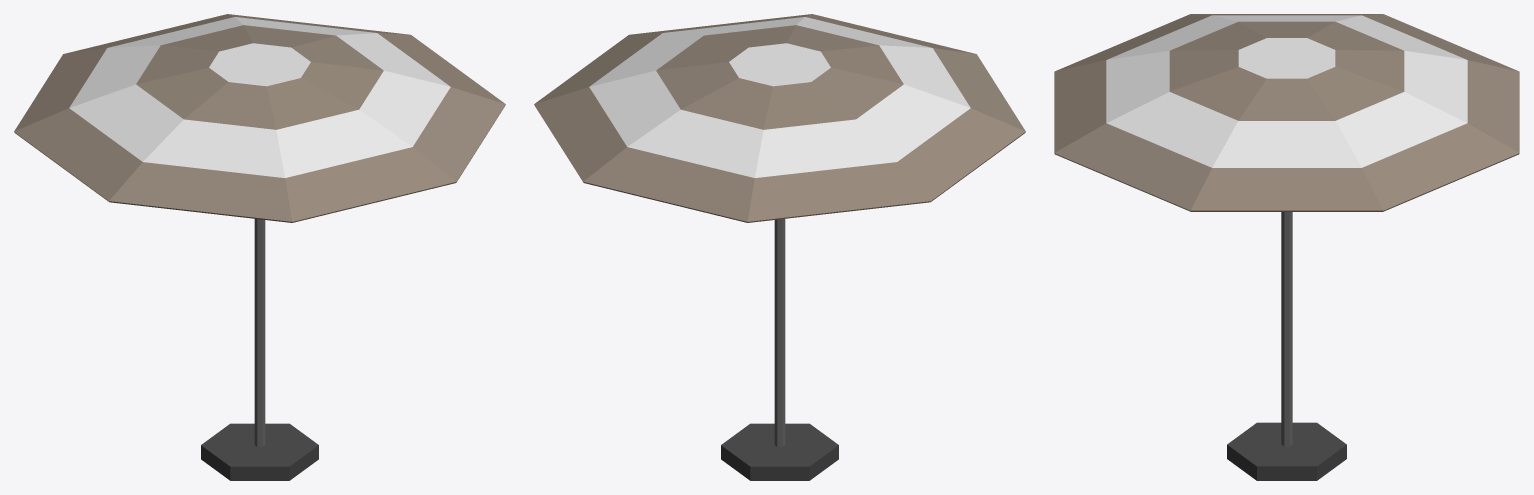
Rendered from Umbrella_04.fbx.
The picture shows the model from 3 angles, left to right: view 1: azimuth 30°, elevation 25°; view 2: azimuth 150°, elevation 25°; view 3: azimuth 270°, elevation 25°; orthographic projection.
Parts seen in each view (by area): view 1: Umbrella_04; view 2: Umbrella_04; view 3: Umbrella_04.
Boxes of the visible parts, x1=… form: Umbrella_04: x1=14, y1=14, x2=505, y2=480; Umbrella_04: x1=534, y1=14, x2=1025, y2=480; Umbrella_04: x1=1054, y1=14, x2=1519, y2=480.
Bounding box in the file's own units: 277 × 263 × 277.
